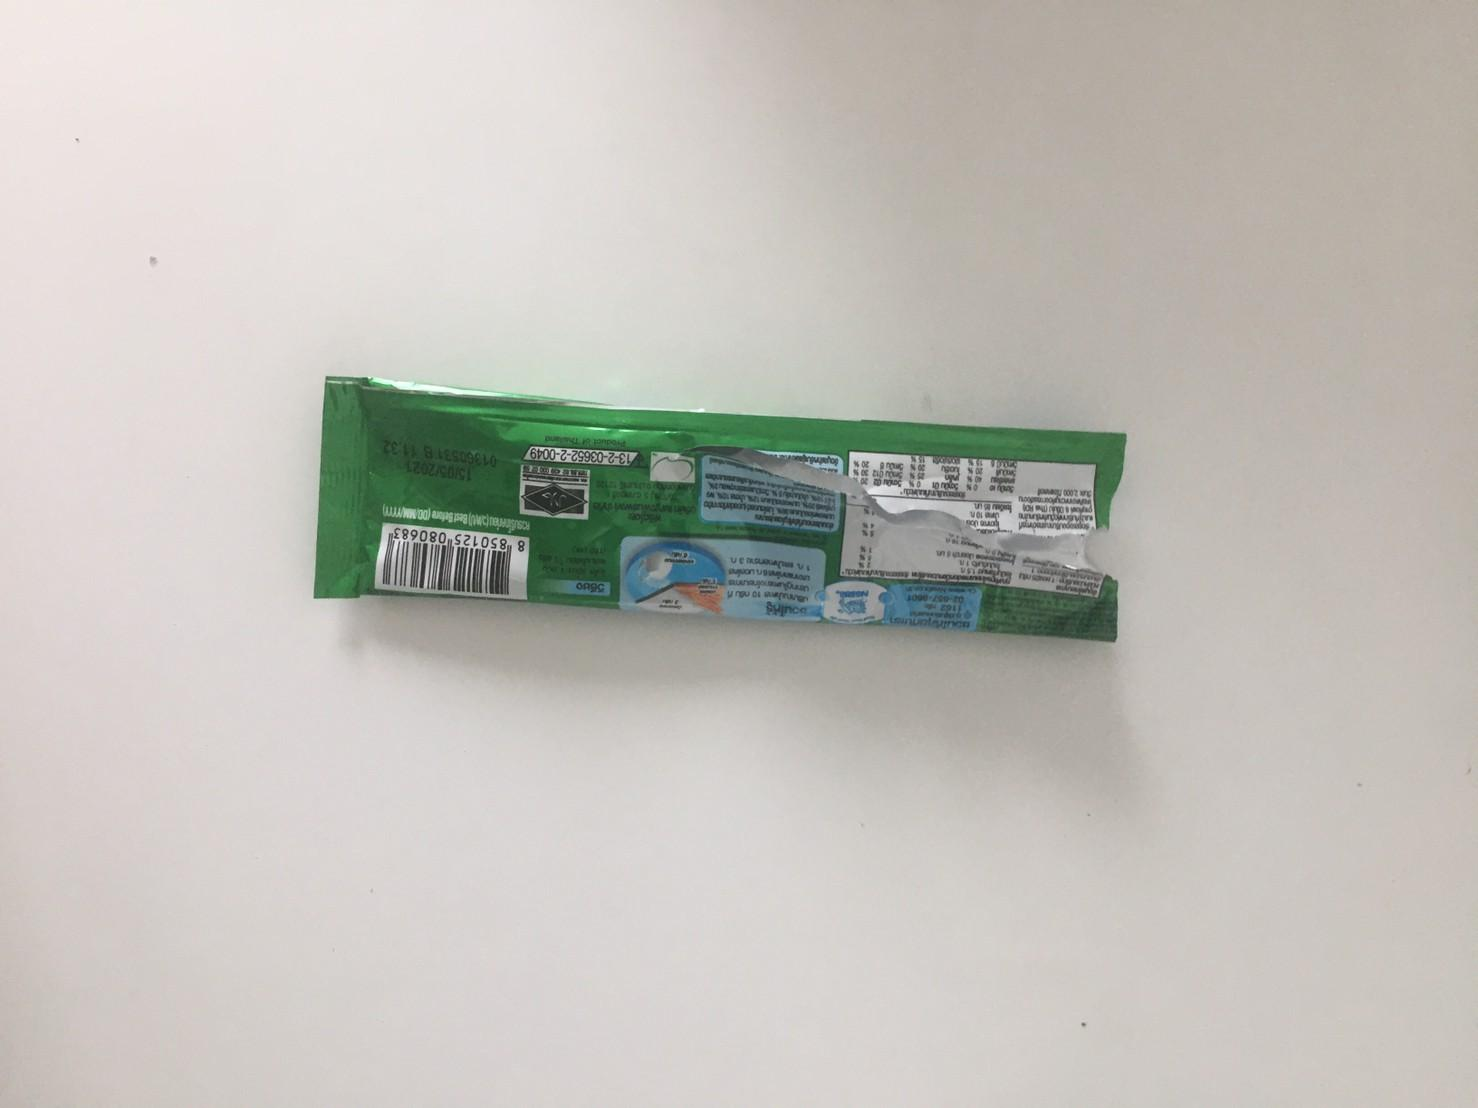plastic: (296, 360, 1143, 666)
